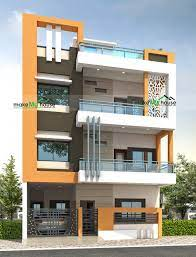Building House: (14, 7, 178, 236)
